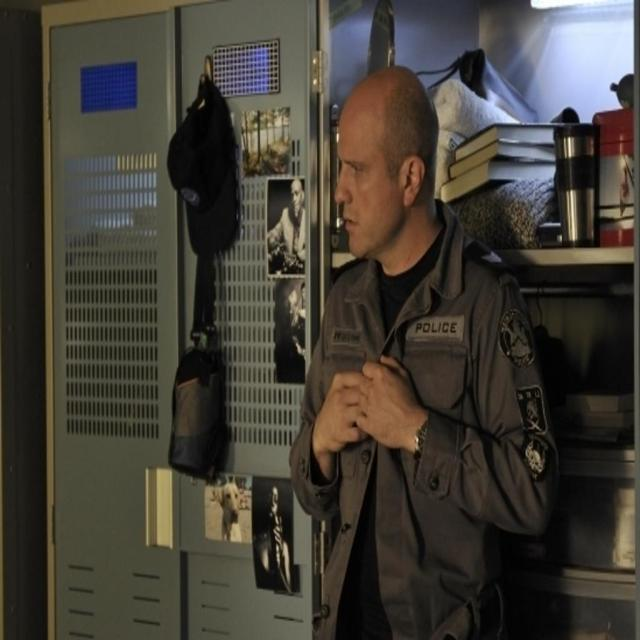Face: (329, 98, 402, 271)
